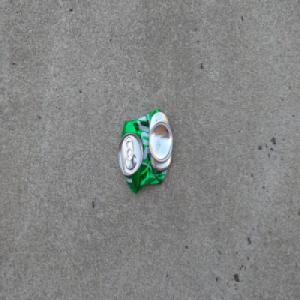SodaCan: (118, 107, 173, 195)
